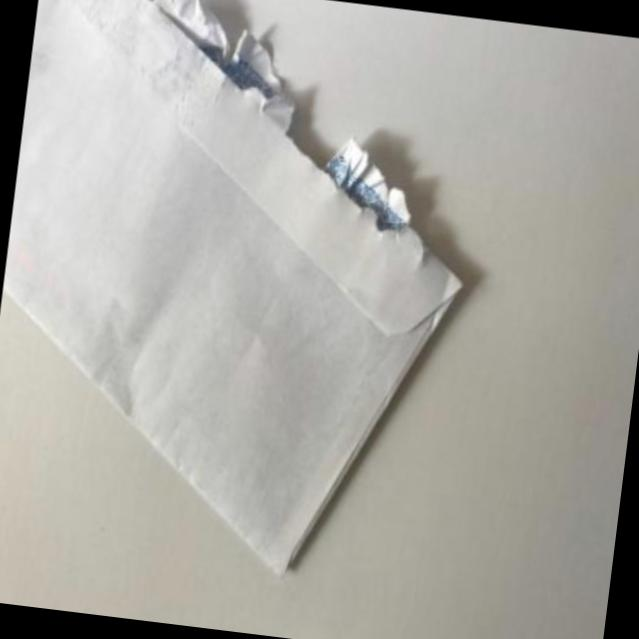cardboard paper: (1, 0, 460, 571)
